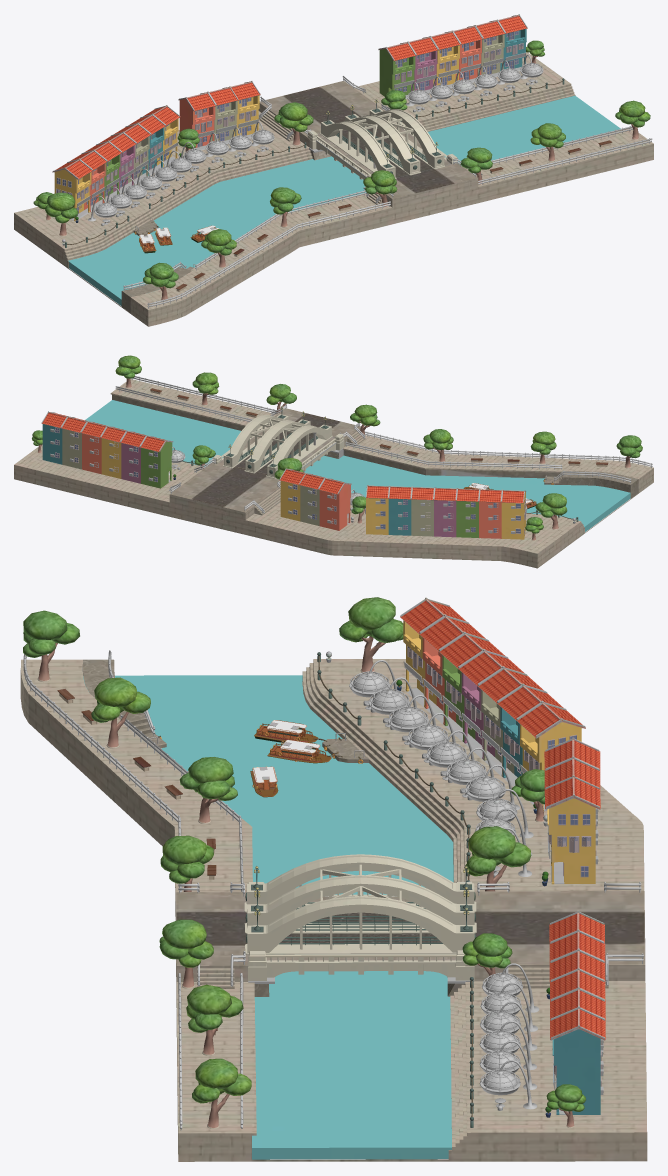
Rendered from sg-river-transformed.glb.
3 views of the same model, one above another, from view 1: azimuth 30°, elevation 25°; view 2: azimuth 150°, elevation 25°; view 3: azimuth 270°, elevation 25° (orthographic). The views are drawn at different scales.
Visible parts, largest first — view 1: boat; view 2: boat; view 3: boat.
Boxes of the visible parts, x1=… form: boat: x1=14, y1=14, x2=653, y2=326; boat: x1=14, y1=355, x2=653, y2=568; boat: x1=20, y1=597, x2=647, y2=1161.
Size of the model in its own units: 2.5 by 0.292 by 1.39.
Materials: 1 (1 with a texture image).
